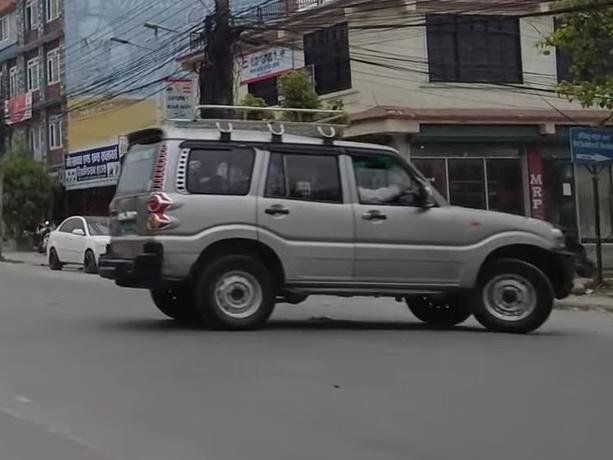SUV: (99, 95, 584, 352)
car: (45, 212, 120, 275)
